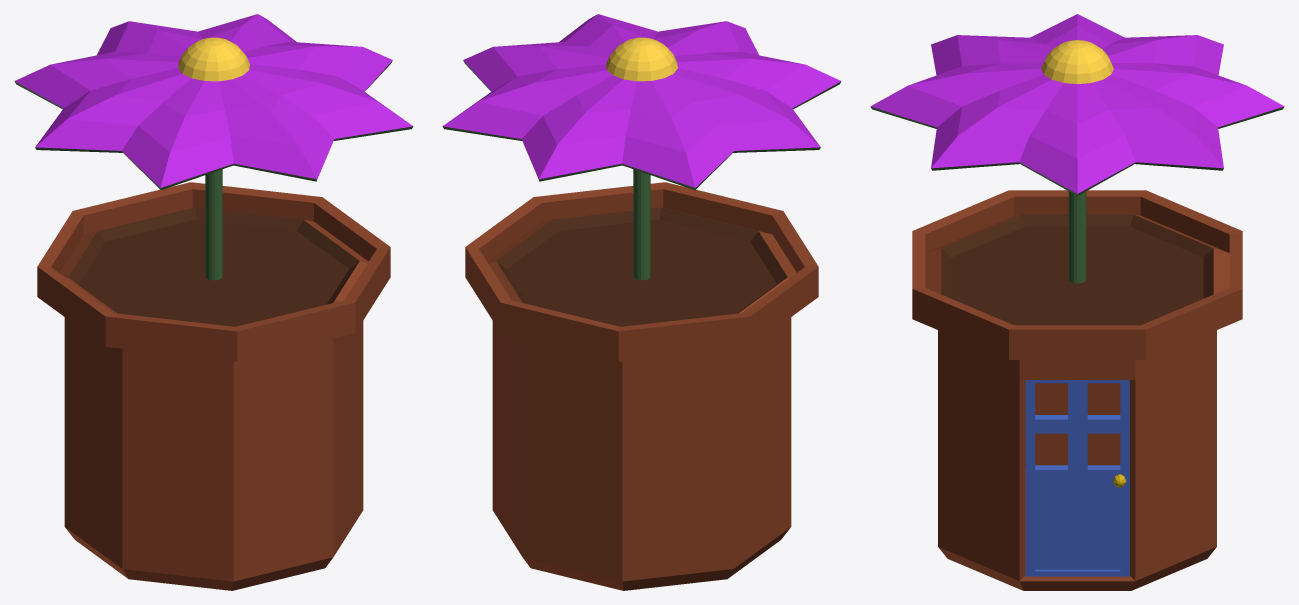
The model's file is flowerpotHouse04.fbx.
The picture shows the model from 3 angles, left to right: view 1: azimuth 30°, elevation 25°; view 2: azimuth 150°, elevation 25°; view 3: azimuth 270°, elevation 25°; orthographic projection.
Parts seen in each view (by area): view 1: pot, umbrella; view 2: pot, umbrella; view 3: pot, umbrella, door.
Part boxes in pixels (x1,y1,x2,y2): pot: (37,182,390,590); umbrella: (14,14,413,280); pot: (465,182,818,590); umbrella: (442,14,841,280); pot: (912,190,1242,590); umbrella: (870,14,1284,283); door: (1025,380,1129,576).
Bounding box in the file's own units: 549 × 720 × 549.
